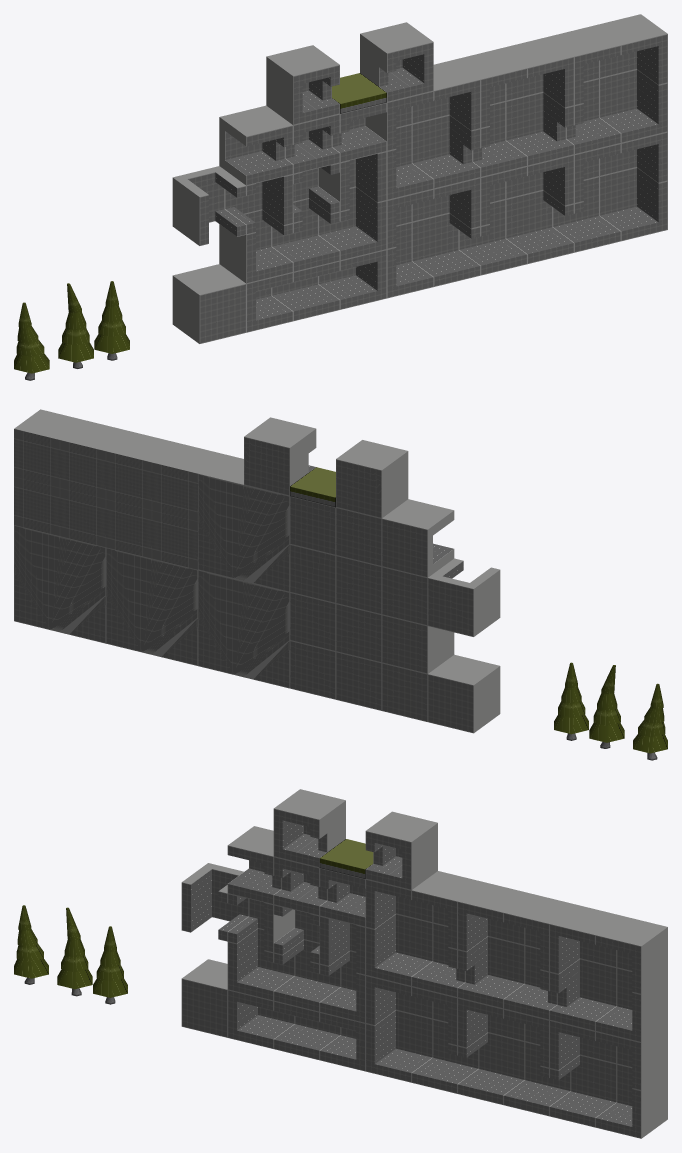
The model's file is Prototype_Tiles.fbx.
3 renders of one model, top to bottom at view 1: azimuth 30°, elevation 25°; view 2: azimuth 150°, elevation 25°; view 3: azimuth 330°, elevation 25°, orthographic.
Parts seen in each view (by area): view 1: Room_2x2_LtDoor, Room_2x2_LtDoor_RtDoor, Room_2x2_RtDoor, Room_2x2_Right, Room_2x2_Center, Room_2x2_Left, Solid, Room_Right_1x1_RtDoor, Room_1x1_RtDoor, Room_1x1_LtDoor, T_Shaft_Left, L_Shaft_Left (+14 smaller); view 2: Room_2x2_LtDoor, Room_2x2_LtDoor_RtDoor, Room_2x2_RtDoor, Room_2x2_Left, Room_2x2_Right, Room_2x2_Center, Solid, Room_1x1_RtDoor, Room_Right_1x1_RtDoor, T_Shaft_Left, Room_1x1_LtDoor, L_Shaft_Left (+14 smaller); view 3: Room_2x2_LtDoor, Room_2x2_LtDoor_RtDoor, Room_2x2_Right, Room_2x2_RtDoor, Room_2x2_Left, Room_2x2_Center, Room_1x1_LtDoor, Room_1x1_RtDoor, T_Shaft_Left, Solid, L_Shaft_Left, Room_Right_1x1_RtDoor (+14 smaller).
Boxes of the visible parts, x1,y1,x2,y2 form: Room_2x2_LtDoor: [548, 14, 667, 154]; Room_2x2_LtDoor_RtDoor: [454, 37, 574, 177]; Room_2x2_RtDoor: [365, 60, 480, 200]; Room_2x2_Right: [552, 132, 667, 252]; Room_2x2_Center: [459, 155, 574, 275]; Room_2x2_Left: [387, 177, 480, 298]; Solid: [172, 264, 246, 343]; Room_Right_1x1_RtDoor: [219, 105, 293, 185]; Room_1x1_RtDoor: [266, 45, 339, 125]; Room_1x1_LtDoor: [360, 22, 433, 102]; T_Shaft_Left: [172, 166, 246, 245]; L_Shaft_Left: [219, 210, 293, 283]; Room_2x2_LtDoor: [14, 409, 131, 547]; Room_2x2_LtDoor_RtDoor: [106, 432, 223, 569]; Room_2x2_RtDoor: [198, 454, 289, 592]; Room_2x2_Left: [198, 570, 289, 688]; Room_2x2_Right: [14, 525, 105, 643]; Room_2x2_Center: [106, 547, 197, 665]; Solid: [427, 654, 500, 733]; Room_1x1_RtDoor: [336, 440, 408, 518]; Room_Right_1x1_RtDoor: [381, 499, 454, 577]; T_Shaft_Left: [427, 558, 500, 636]; Room_1x1_LtDoor: [244, 417, 316, 495]; L_Shaft_Left: [381, 615, 454, 673]; Room_2x2_LtDoor: [549, 904, 667, 1042]; Room_2x2_LtDoor_RtDoor: [457, 882, 575, 1019]; Room_2x2_Right: [549, 1020, 667, 1138]; Room_2x2_RtDoor: [365, 871, 483, 997]; Room_2x2_Left: [365, 975, 478, 1093]; Room_2x2_Center: [457, 998, 570, 1116]; Room_1x1_LtDoor: [365, 811, 437, 890]; Room_1x1_RtDoor: [273, 789, 345, 867]; T_Shaft_Left: [181, 863, 248, 941]; Solid: [181, 959, 227, 1037]; L_Shaft_Left: [227, 928, 294, 1000]; Room_Right_1x1_RtDoor: [227, 826, 281, 904].
Size of the model in its own units: 41.42 by 15 by 3.17.
